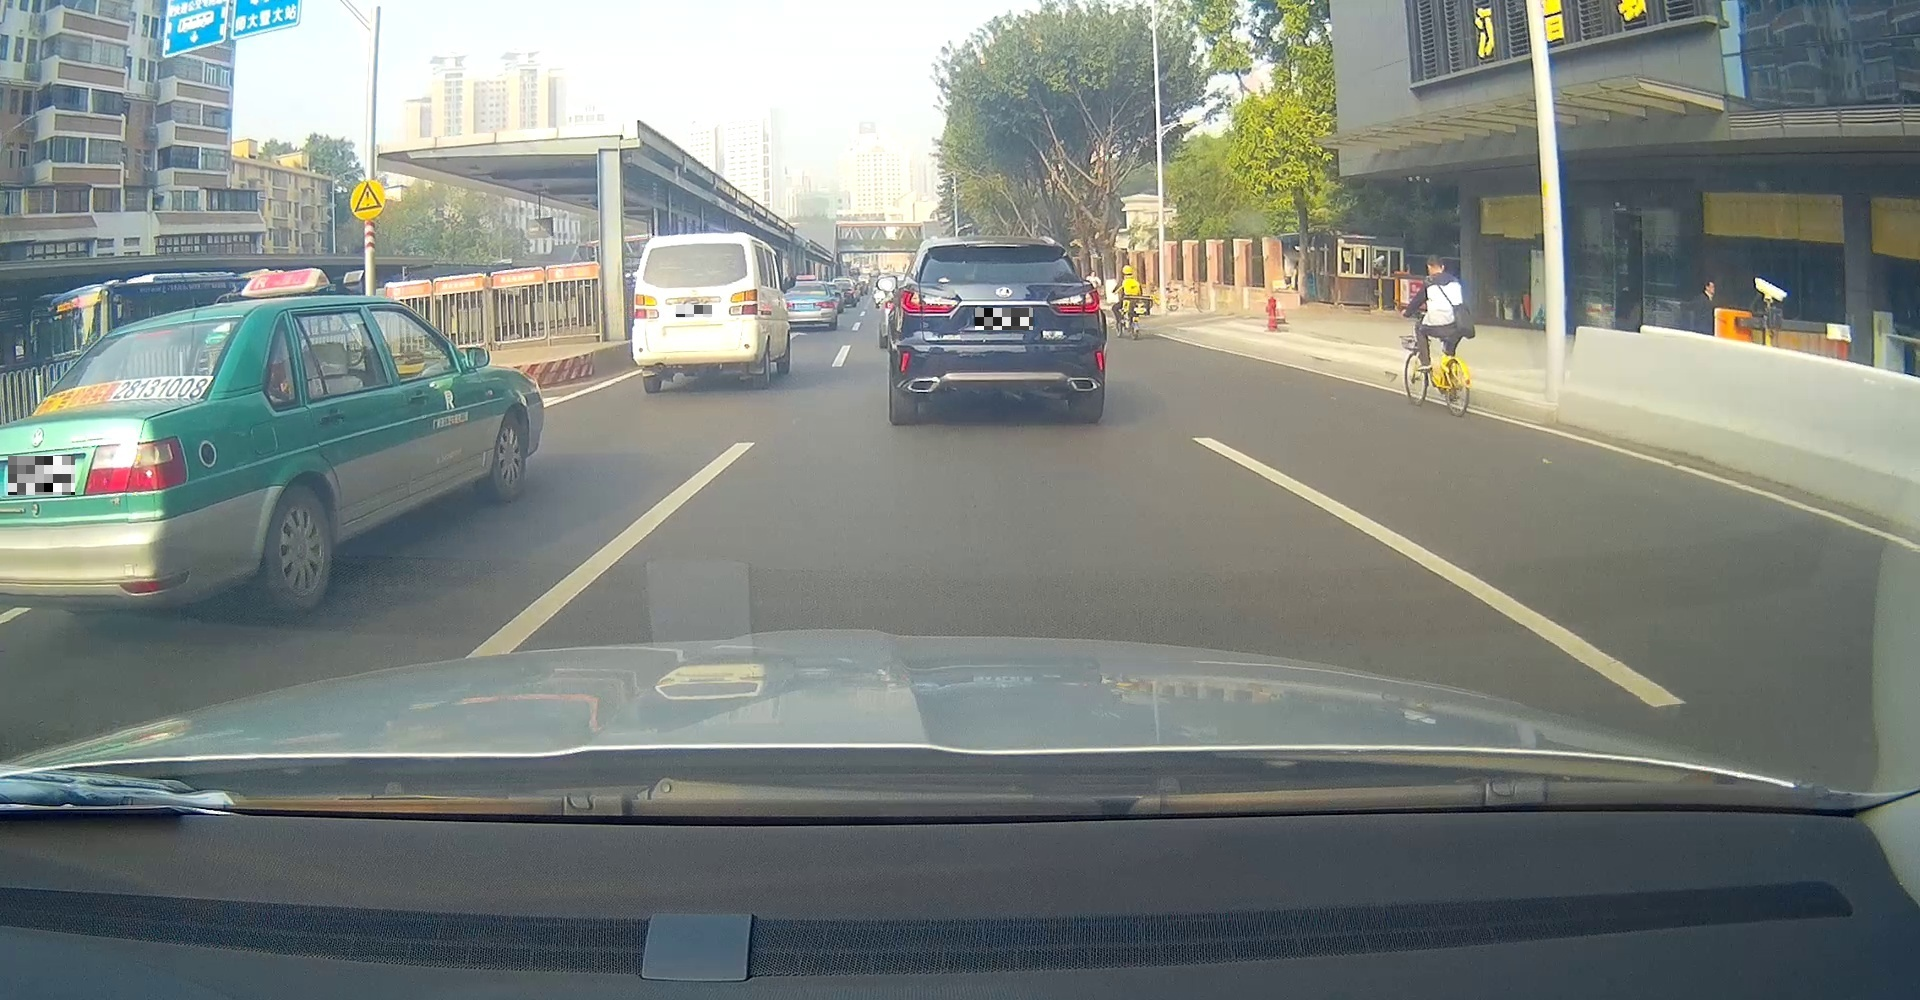L_light: (900, 288, 961, 315), (634, 293, 659, 320)
R_light: (1050, 289, 1100, 313), (728, 288, 758, 316)
T_light: (977, 241, 1017, 247), (687, 242, 705, 247)
day-no: (891, 235, 1106, 424), (632, 232, 761, 393)
plate_1: (676, 305, 712, 317)
plate_2: (8, 456, 75, 495)
plate_3: (975, 308, 1032, 330)
